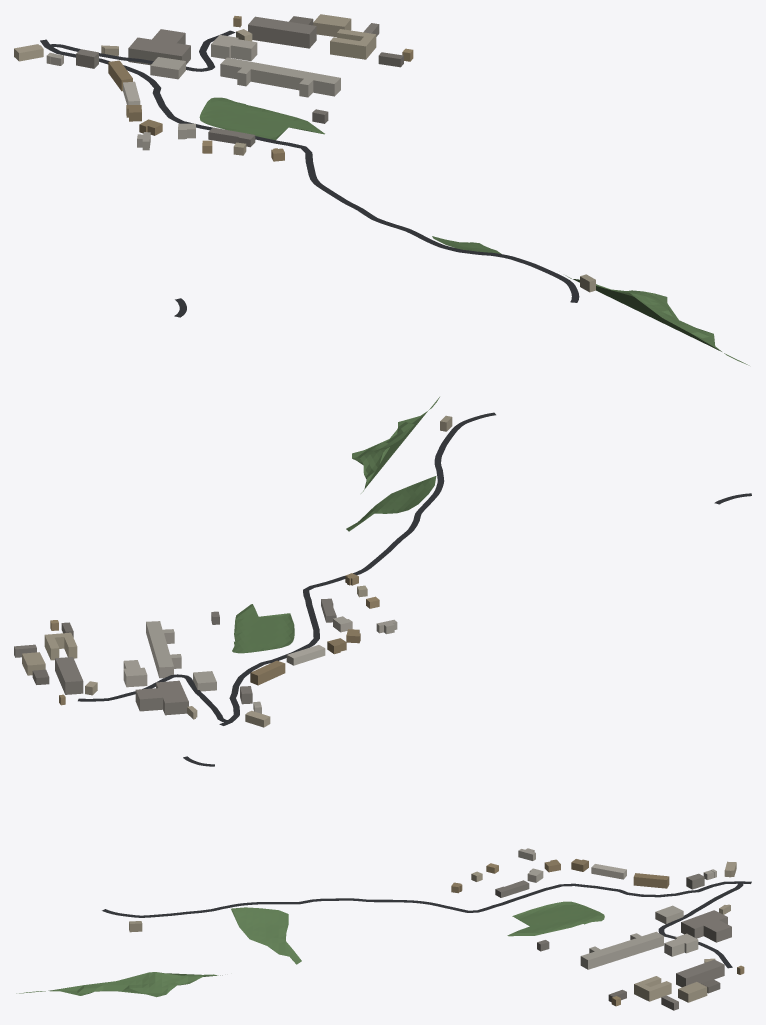
Rendered from tile_11_1.glb.
3 views of the same model, one above another, from view 1: azimuth 30°, elevation 25°; view 2: azimuth 150°, elevation 25°; view 3: azimuth 270°, elevation 25° (orthographic). The views are drawn at different scales.
Parts seen in each view (by area): view 1: bld_11_1, grn_11_1, road_11_1; view 2: bld_11_1, grn_11_1, road_11_1; view 3: bld_11_1, grn_11_1, road_11_1.
Part boxes in pixels (x1=…): bld_11_1: x1=14, y1=14, x2=595, y2=292; grn_11_1: x1=199, y1=97, x2=749, y2=365; road_11_1: x1=40, y1=30, x2=579, y2=317; bld_11_1: x1=14, y1=415, x2=452, y2=727; grn_11_1: x1=232, y1=397, x2=439, y2=653; road_11_1: x1=78, y1=412, x2=751, y2=725; bld_11_1: x1=129, y1=848, x2=744, y2=1010; grn_11_1: x1=16, y1=901, x2=604, y2=997; road_11_1: x1=102, y1=756, x2=751, y2=968.
Size of the model in its own units: 571 by 85.54 by 909.
